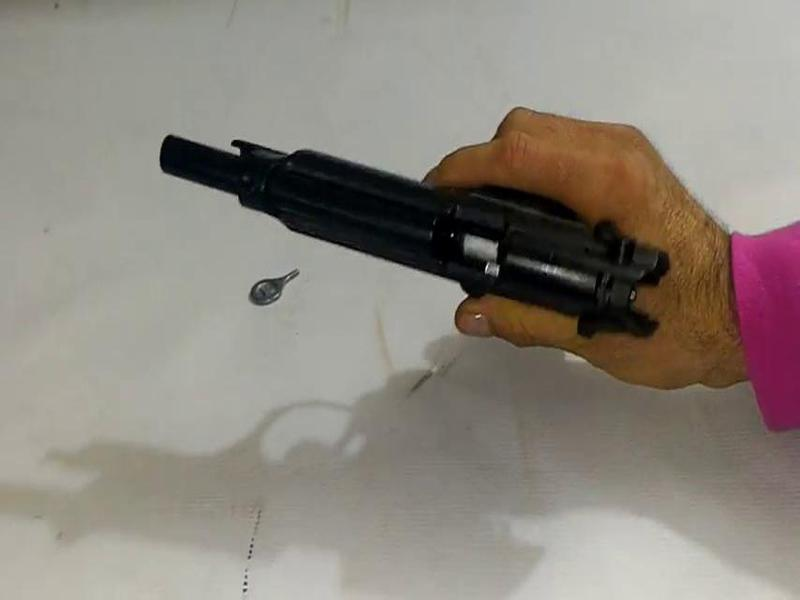Pistola: (108, 83, 698, 384)
